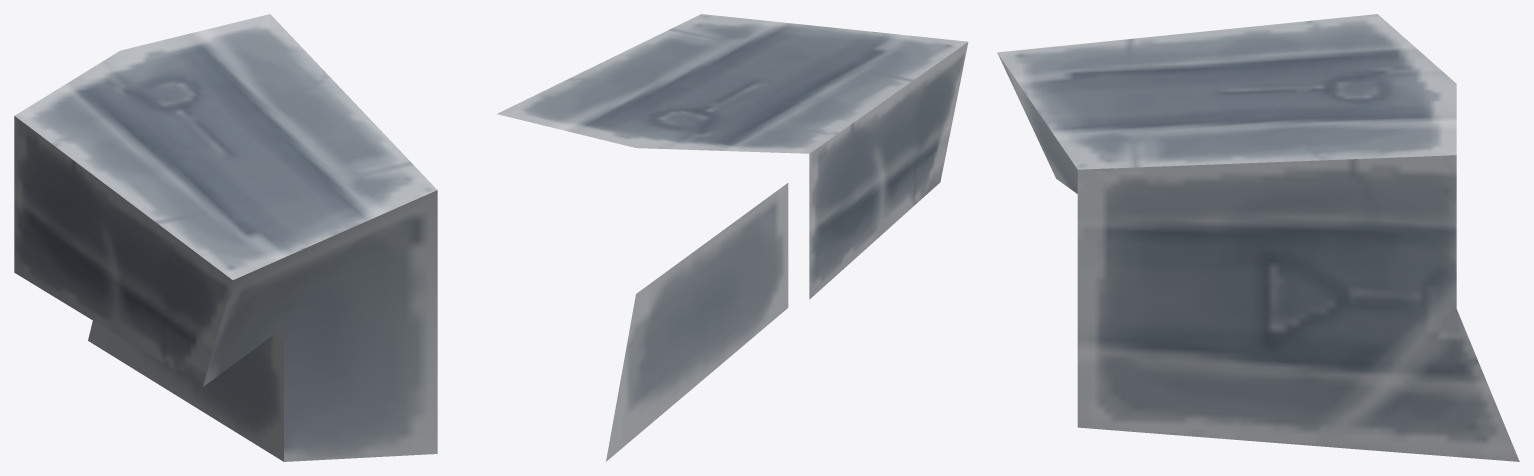
The model's file is chunk_03.glb.
3 views of the same model, side by side, from view 1: azimuth 30°, elevation 25°; view 2: azimuth 150°, elevation 25°; view 3: azimuth 270°, elevation 25° (orthographic). The views are drawn at different scales.
Parts seen in each view (by area): view 1: obsidian_obelisk.chunk_03-MeshNodes["chunk_03"]; view 2: obsidian_obelisk.chunk_03-MeshNodes["chunk_03"]; view 3: obsidian_obelisk.chunk_03-MeshNodes["chunk_03"].
Boxes of the visible parts, box(x1,y1,x2,y2) form: obsidian_obelisk.chunk_03-MeshNodes["chunk_03"]: box(14, 14, 437, 461); obsidian_obelisk.chunk_03-MeshNodes["chunk_03"]: box(497, 14, 968, 461); obsidian_obelisk.chunk_03-MeshNodes["chunk_03"]: box(997, 14, 1519, 461).
Bounding box in the file's own units: 0.5878 × 0.5953 × 0.9194.
1 material, 1 textured.
